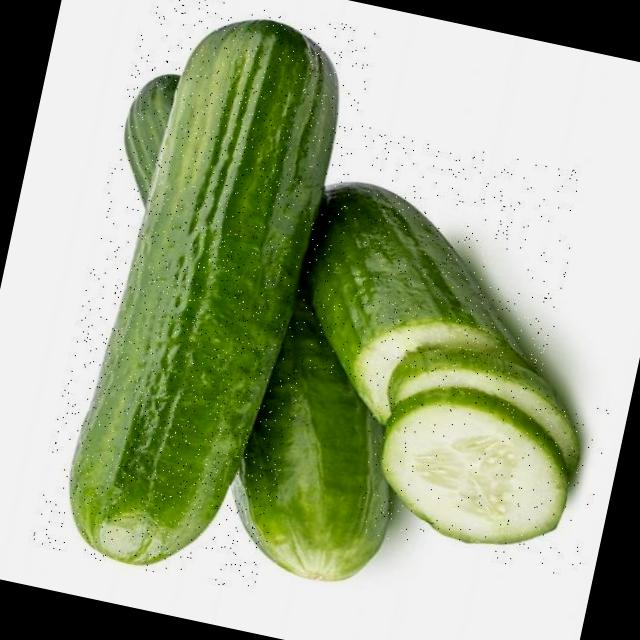Cucumber: (46, 0, 354, 584)
